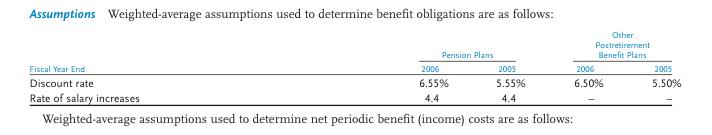table: (28, 29, 680, 104)
table column: (28, 29, 278, 104), (278, 29, 471, 104), (548, 29, 626, 104), (471, 29, 548, 104), (626, 29, 680, 104)
table column header: (28, 29, 680, 74)
table row: (28, 29, 680, 61), (28, 74, 680, 89), (28, 89, 680, 104), (28, 61, 680, 74)
table spanning cell: (28, 29, 278, 74), (278, 29, 548, 61), (548, 29, 680, 61)
